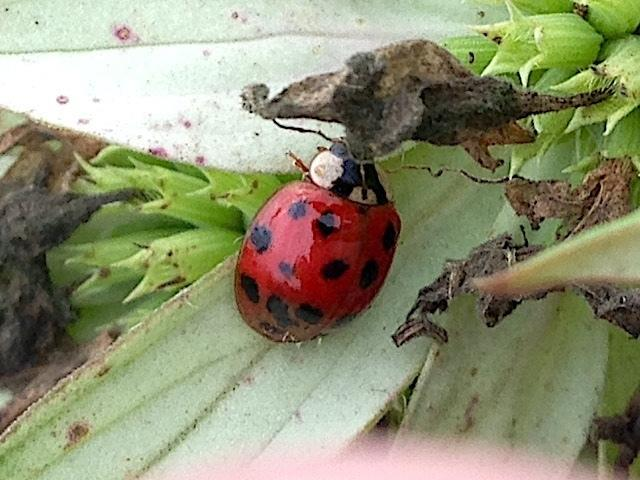ladybug: (232, 116, 405, 346)
